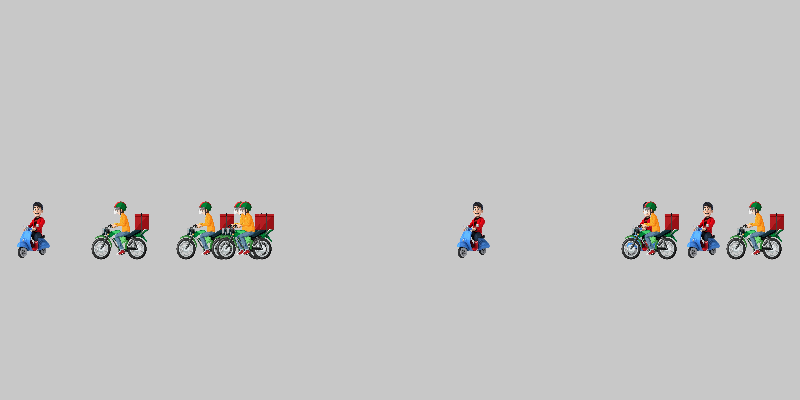helmet: (90, 200, 150, 260), (175, 200, 235, 260), (210, 200, 270, 260), (215, 200, 275, 260), (620, 200, 680, 260), (725, 200, 785, 260)
no_helmet: (5, 200, 65, 260), (445, 200, 505, 260), (615, 200, 675, 260), (675, 200, 735, 260)
